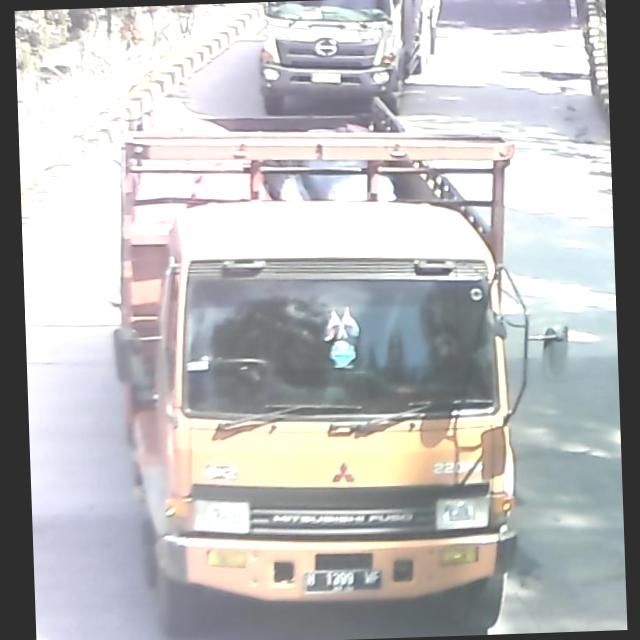plate: (299, 565, 389, 598)
